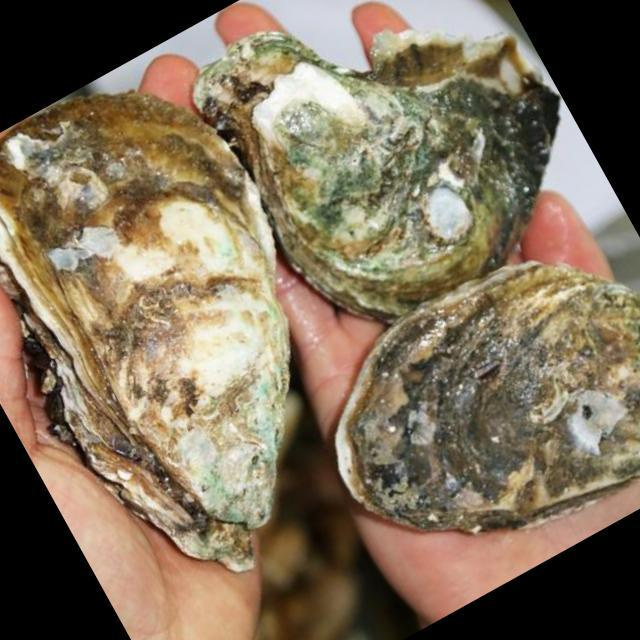Oyster- Indeterminate: (0, 33, 423, 624), (172, 0, 626, 372), (277, 197, 640, 611)
